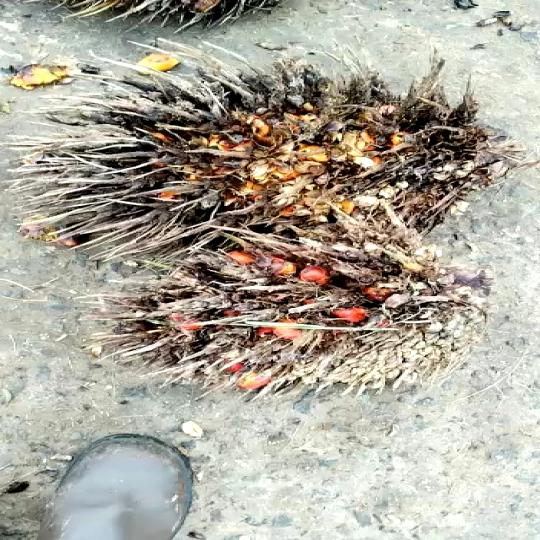terlalu masak: (45, 67, 497, 249), (130, 219, 458, 404)
